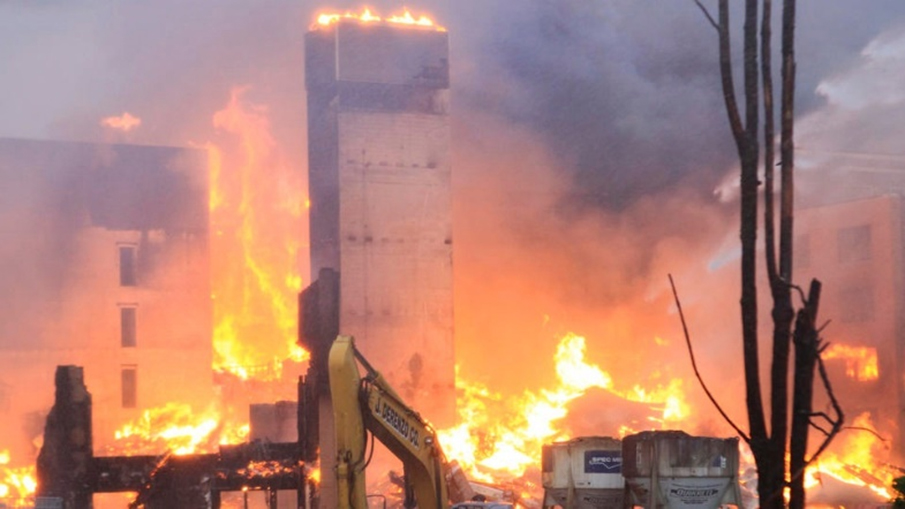fire: (453, 277, 585, 488), (206, 138, 305, 376), (597, 294, 696, 434), (830, 340, 903, 502), (115, 396, 256, 449), (308, 1, 462, 37)
smoke: (317, 44, 733, 271), (8, 6, 194, 368)
